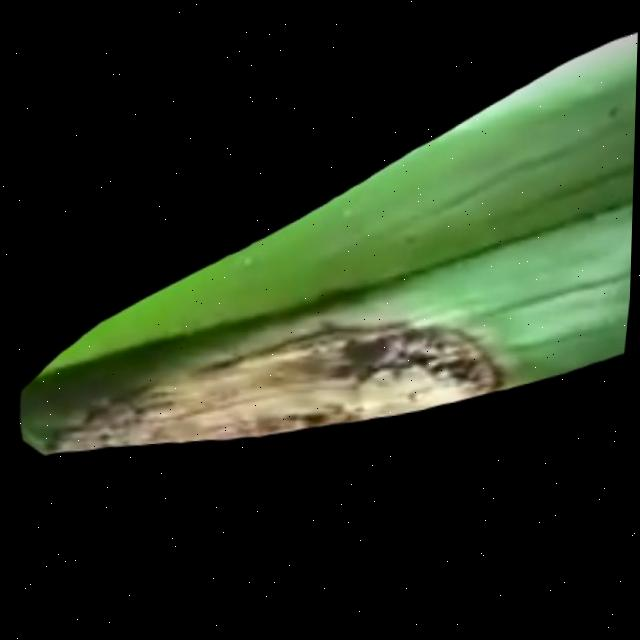mite: (385, 328, 506, 400), (586, 97, 637, 233), (591, 85, 637, 144), (426, 353, 485, 391), (590, 203, 634, 233), (602, 98, 637, 129), (33, 422, 65, 455), (449, 363, 480, 386), (233, 249, 262, 273), (401, 389, 429, 410), (600, 107, 624, 129), (624, 201, 635, 233), (603, 110, 621, 126), (406, 392, 425, 407), (240, 255, 256, 269), (402, 238, 419, 251), (629, 208, 634, 229)
sunburn: (43, 310, 516, 461)
